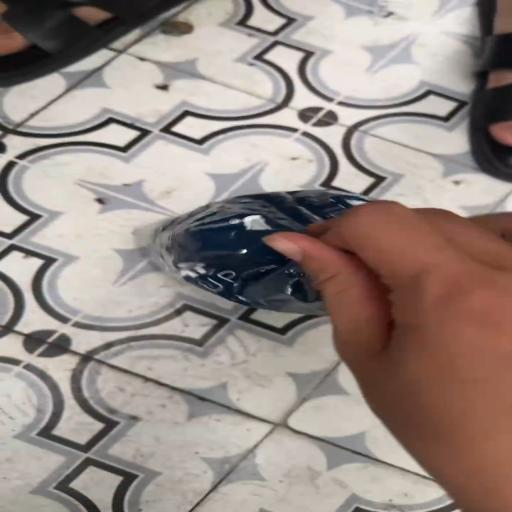cafe_hat: (146, 190, 369, 315)
